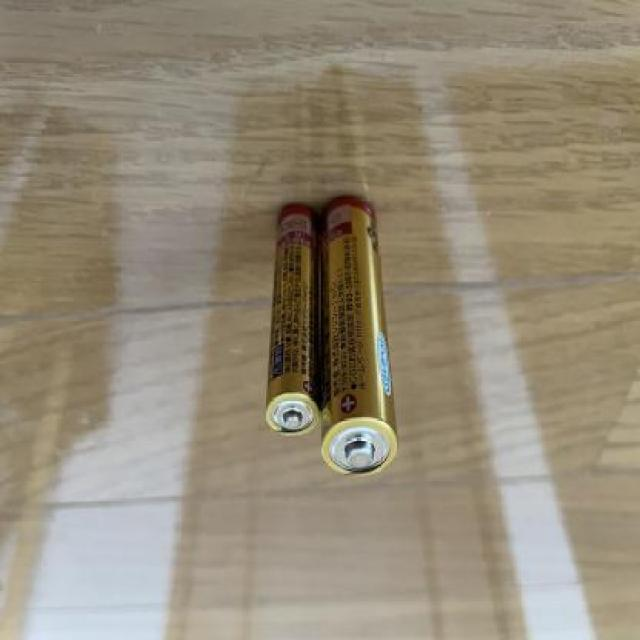hazardous waste: (314, 195, 400, 480), (262, 198, 328, 437)
